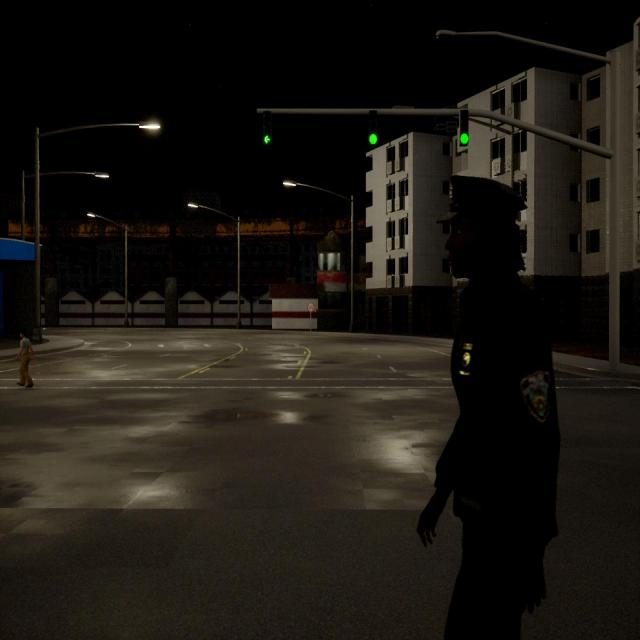Pedestrian: (417, 176, 559, 638), (17, 332, 33, 387)
Traffic_Signs: (308, 303, 314, 311)
traffic_light: (263, 111, 272, 144), (460, 110, 468, 146), (369, 110, 377, 145)
